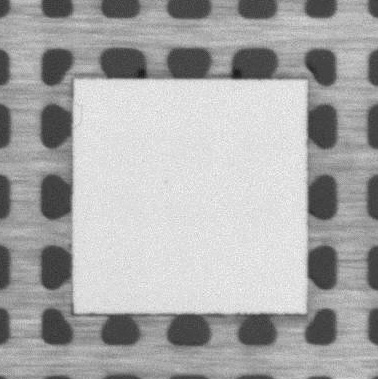DIE_CRACK: (72, 100, 86, 132)
